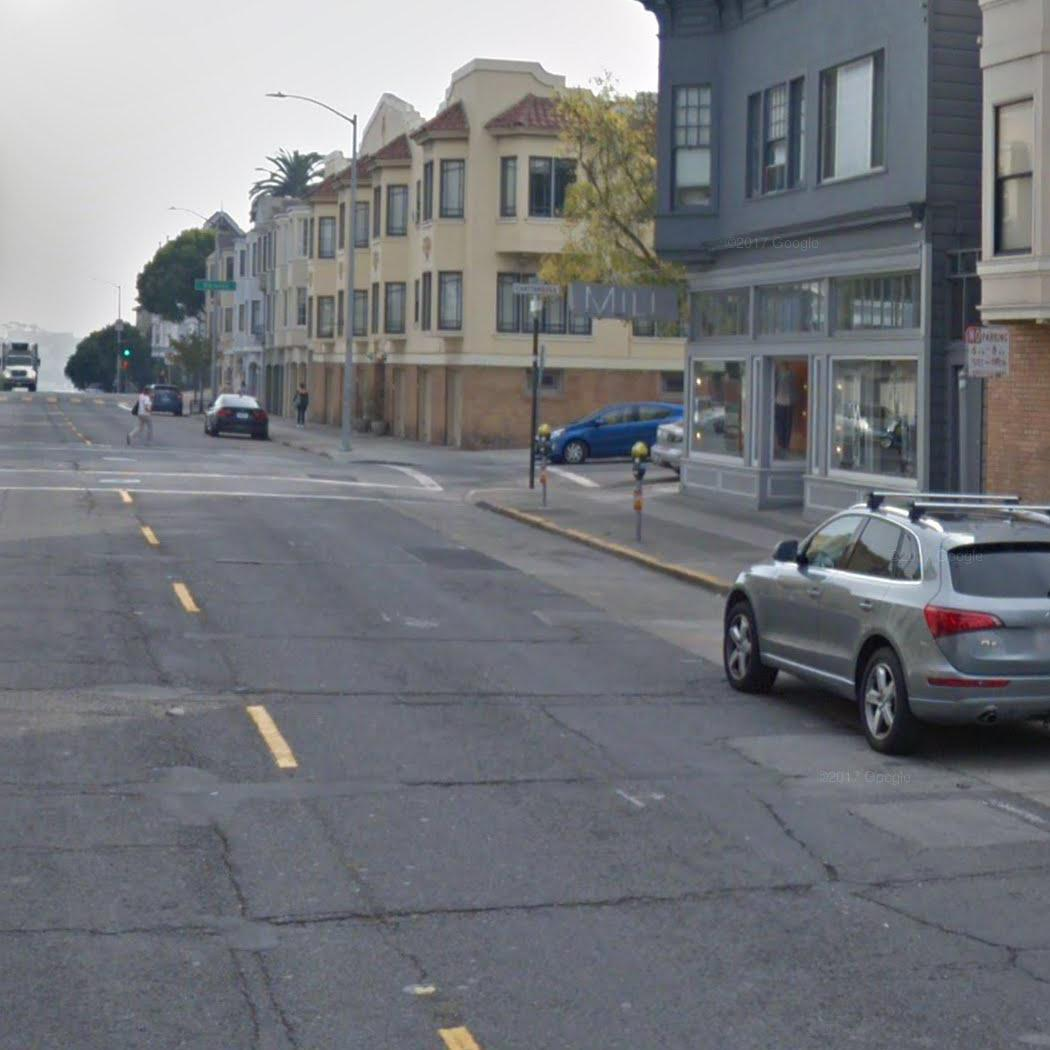No Parking: (964, 324, 1012, 379)
